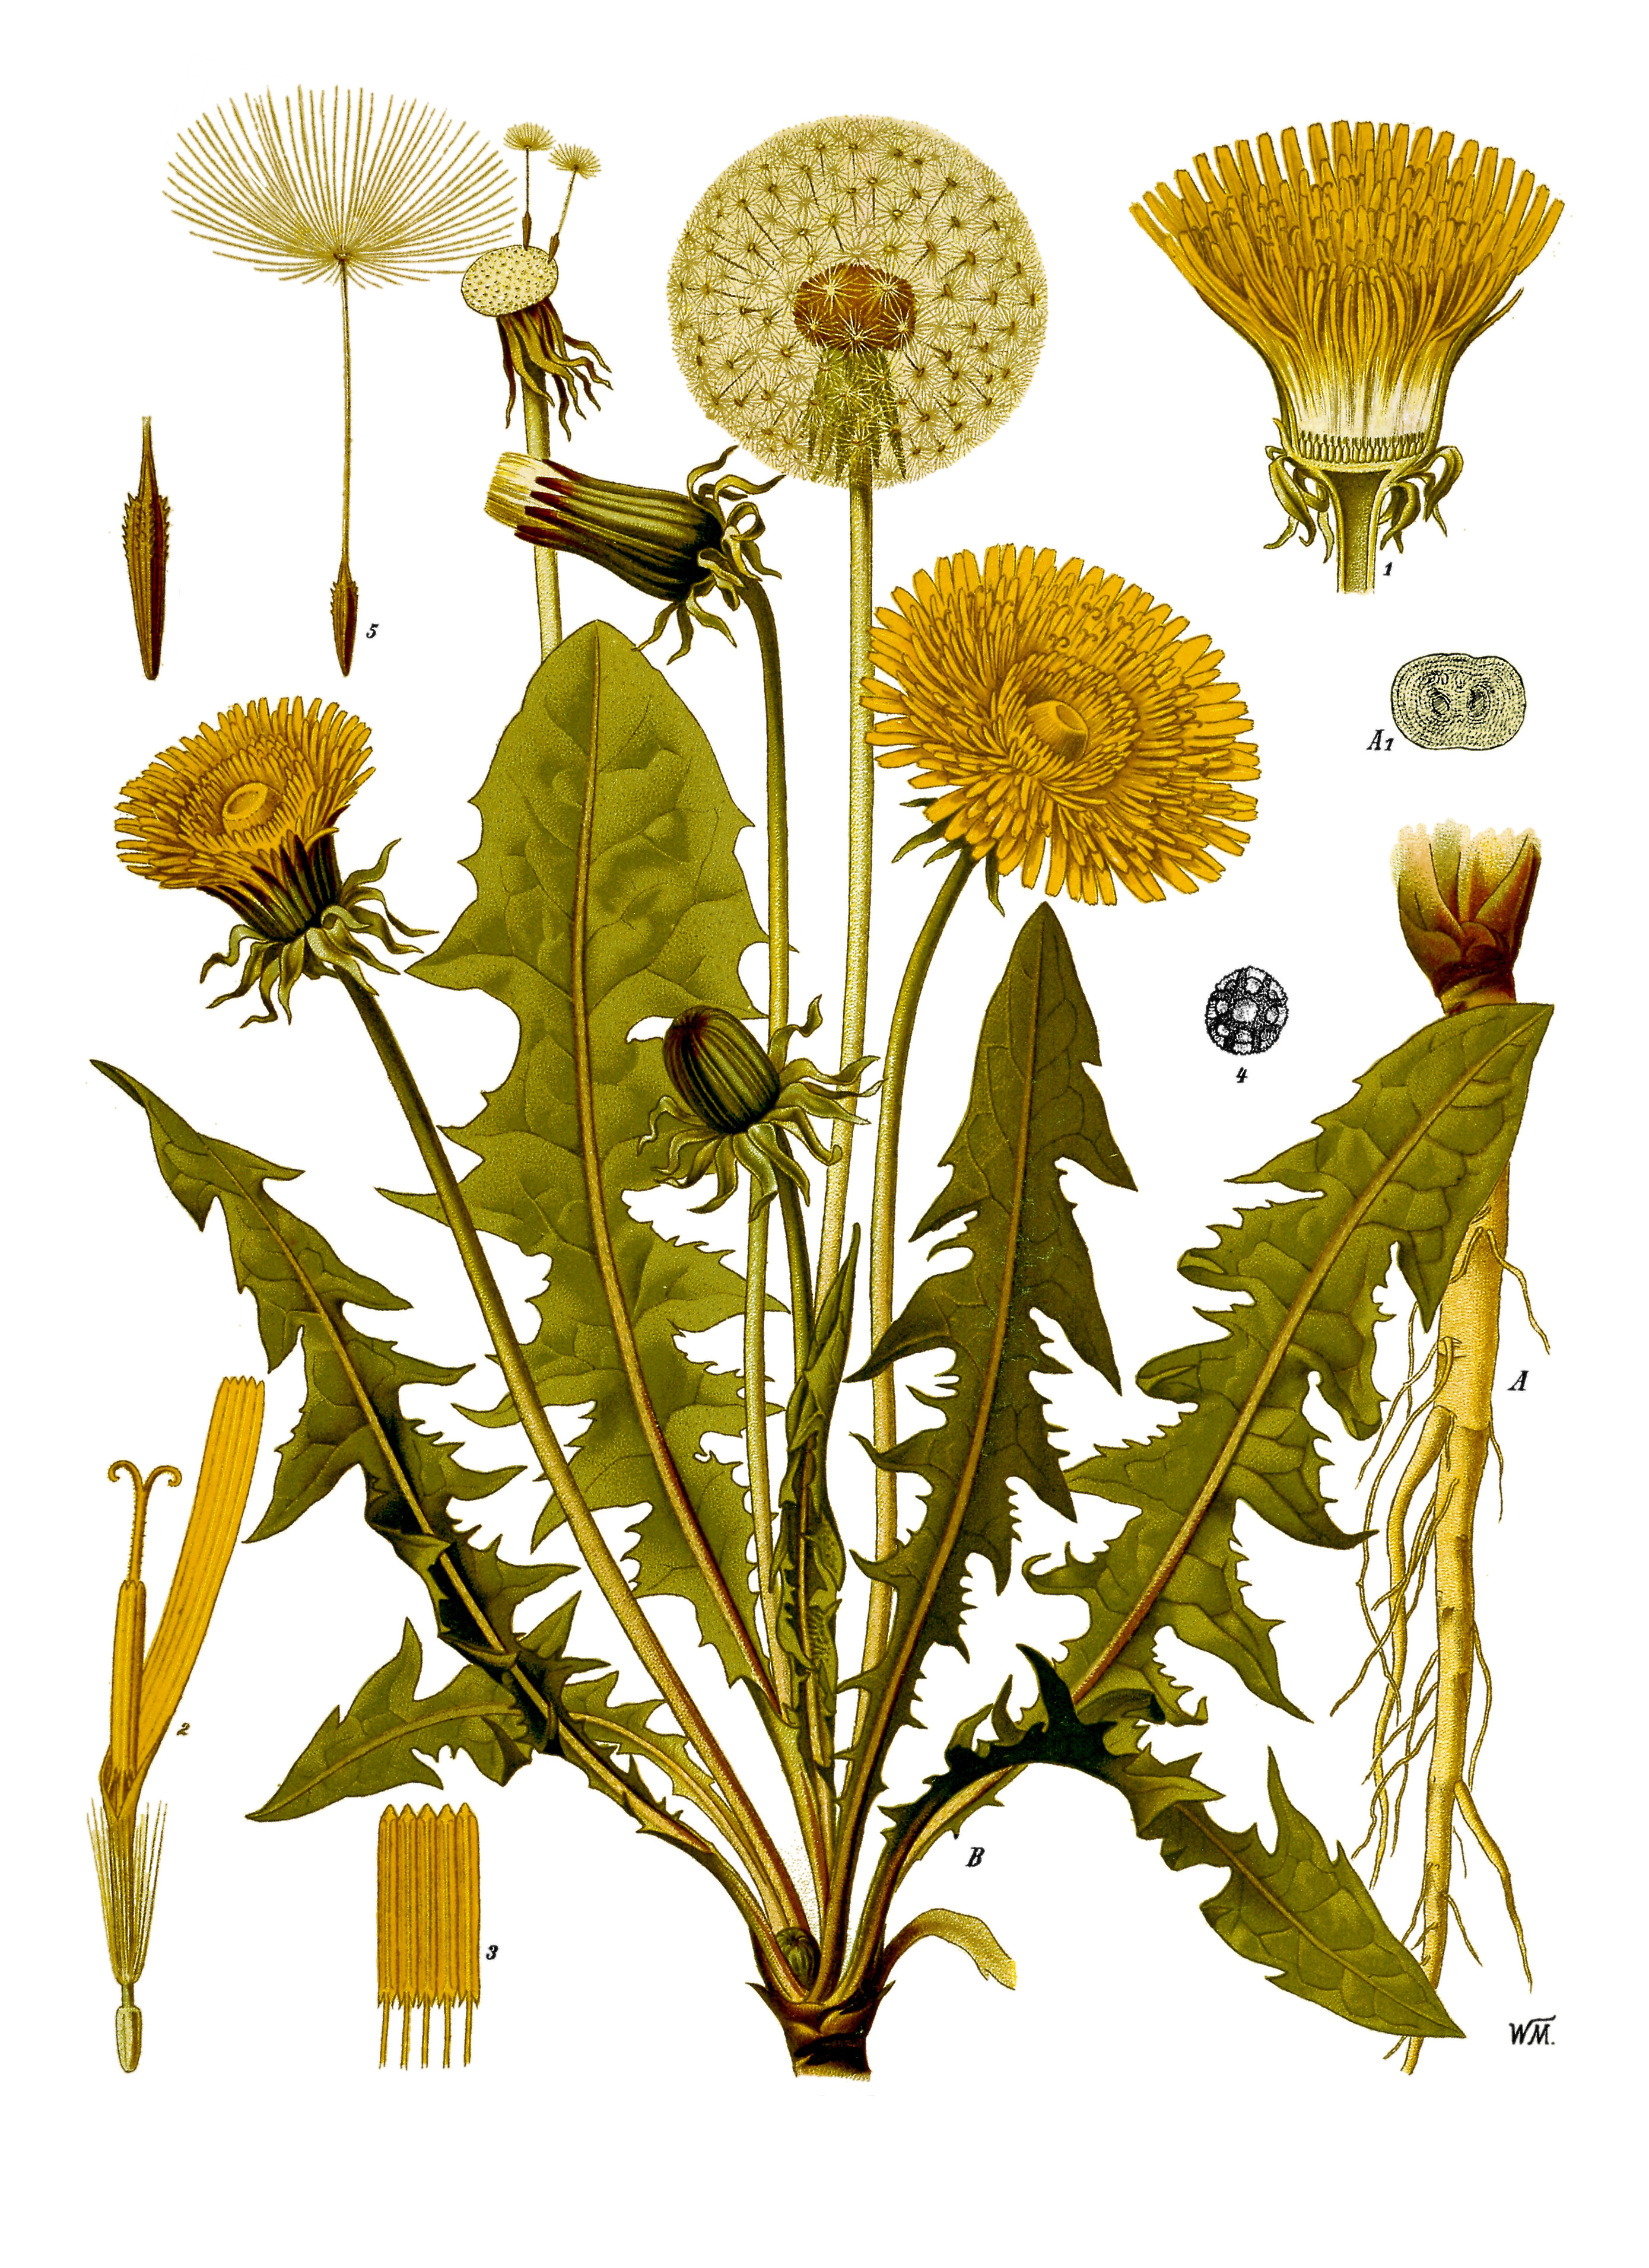dandelion: (884, 579, 1309, 875), (1112, 121, 1580, 335), (78, 724, 449, 872)
